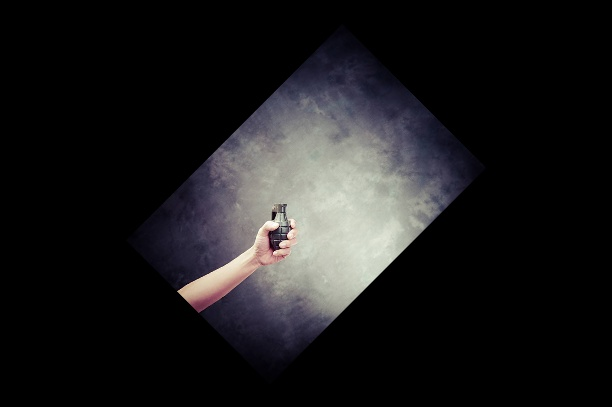e1: (265, 202, 294, 258)
